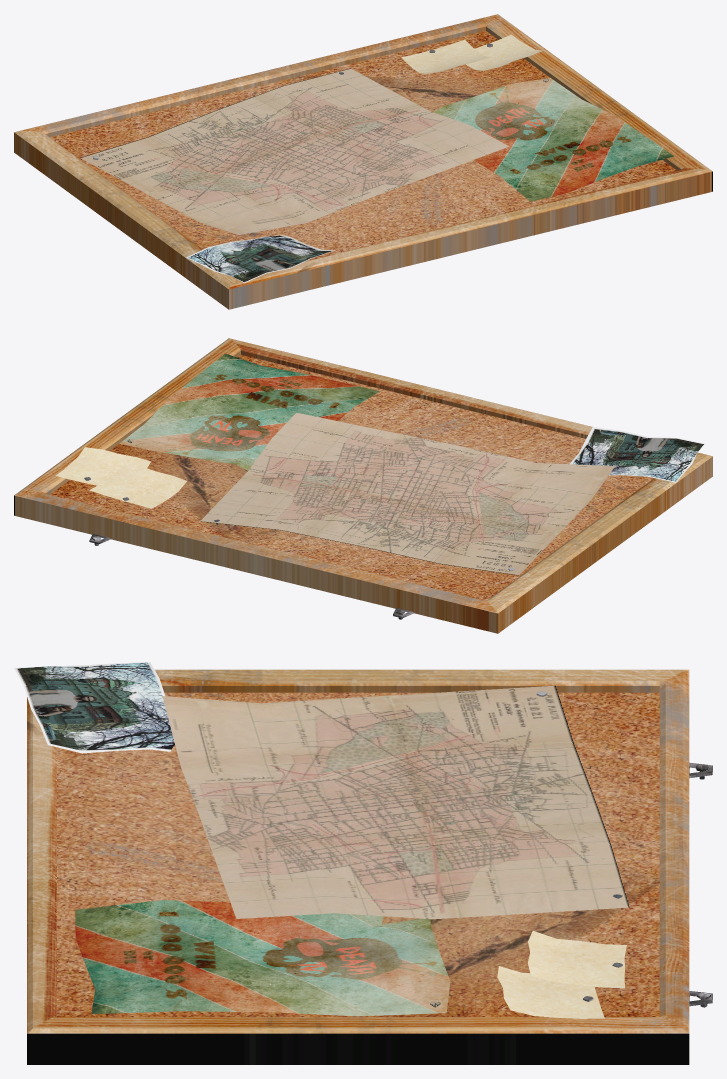
Rendered from CorkBoard.FBX.
3 renders of one model, top to bottom at view 1: azimuth 30°, elevation 25°; view 2: azimuth 150°, elevation 25°; view 3: azimuth 270°, elevation 25°, orthographic. The views are drawn at different scales.
Parts seen in each view (by area): view 1: tablica, kartka104, kartka1, kartka101, kartka103, kartka102; view 2: tablica, kartka104, kartka1, kartka101, kartka103, kartka102; view 3: tablica, kartka104, kartka1, kartka101, kartka103, kartka102.
Part boxes in pixels (x1,y1,x2,y2): tablica: (14,14,712,309); kartka104: (80,68,509,234); kartka1: (433,78,673,201); kartka101: (186,235,335,282); kartka103: (401,39,489,73); kartka102: (466,34,542,70); tablica: (14,338,712,633); kartka104: (200,412,614,575); kartka1: (119,353,379,470); kartka101: (570,427,705,482); kartka103: (89,463,186,508); kartka102: (55,447,151,485); tablica: (27,669,712,1064); kartka104: (162,685,629,919); kartka1: (75,900,450,1016); kartka101: (14,662,174,753); kartka103: (527,930,626,988); kartka102: (497,966,604,1018).
Size of the model in its own units: 0.5363 by 0.0359 by 0.4328.
2 materials, 2 textured.
